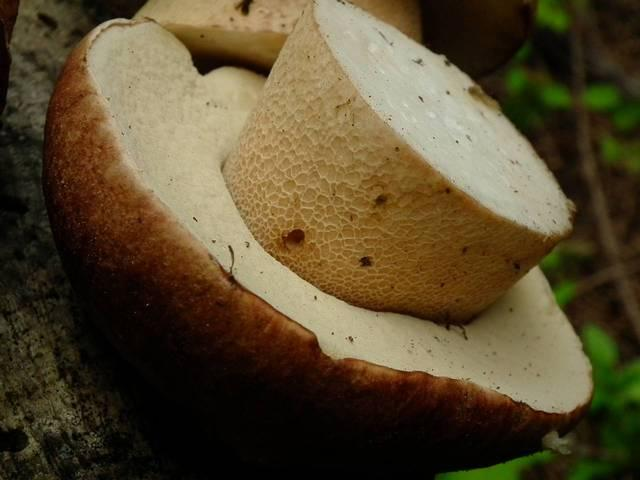Edible Mushroom: (39, 0, 595, 477)
